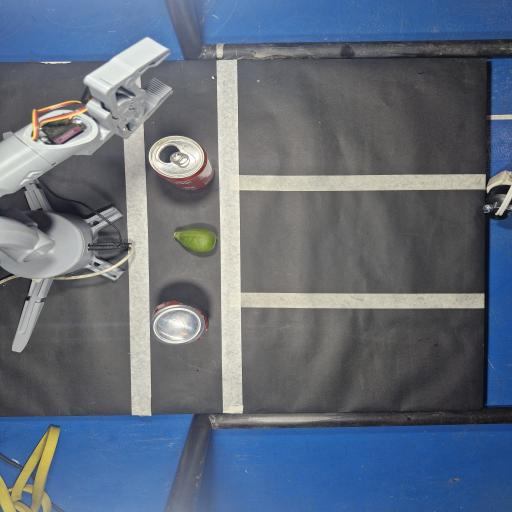higo: (174, 229, 216, 252)
lata: (149, 136, 214, 190)
lata_defectuoso: (151, 301, 206, 344)
